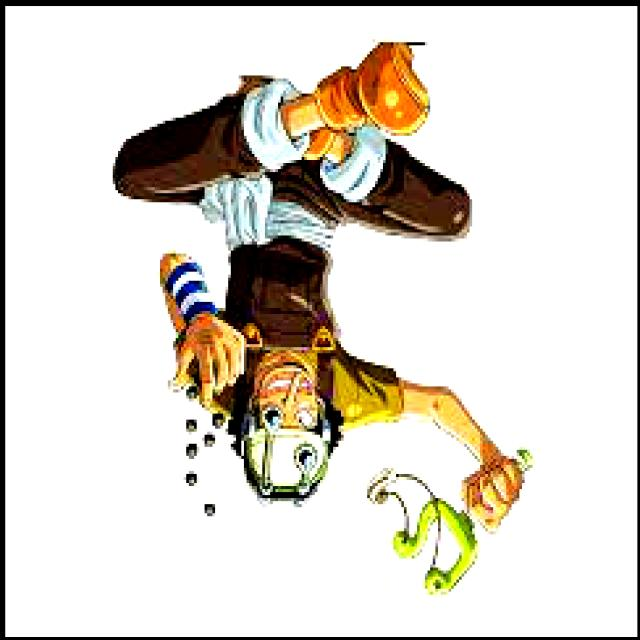Usopp: (113, 42, 530, 598)
